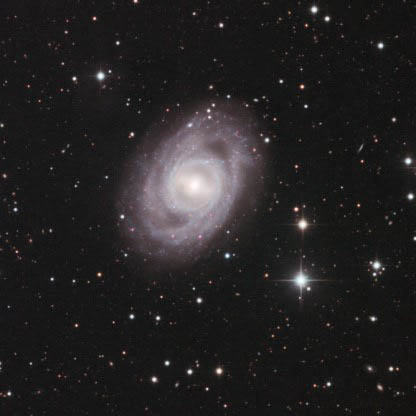Messier 95: (113, 91, 271, 283)
